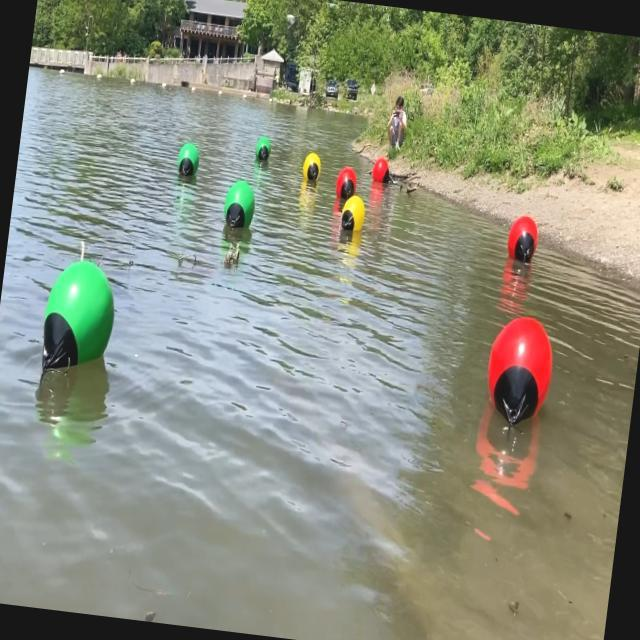buoy: (36, 256, 121, 380), (478, 314, 562, 434), (219, 175, 259, 232), (504, 212, 540, 274), (338, 192, 366, 236), (174, 139, 200, 181), (333, 164, 358, 203), (369, 156, 393, 187), (301, 150, 323, 182), (254, 134, 272, 162)
